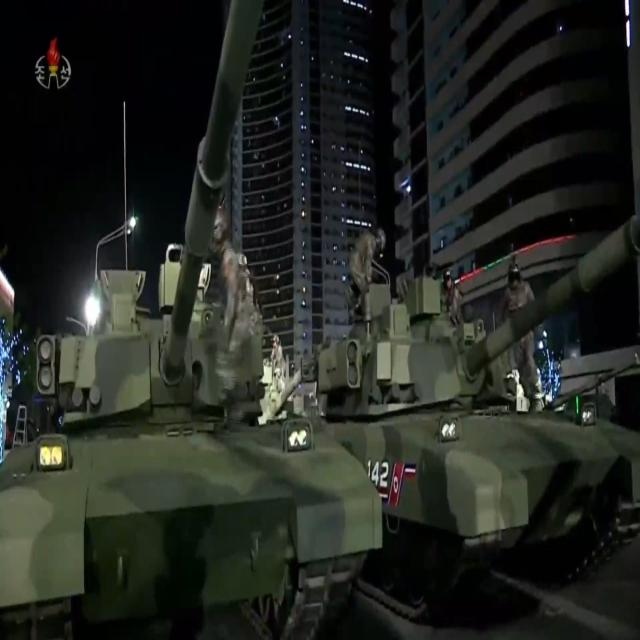north tank: (3, 0, 391, 640), (307, 206, 640, 606)
